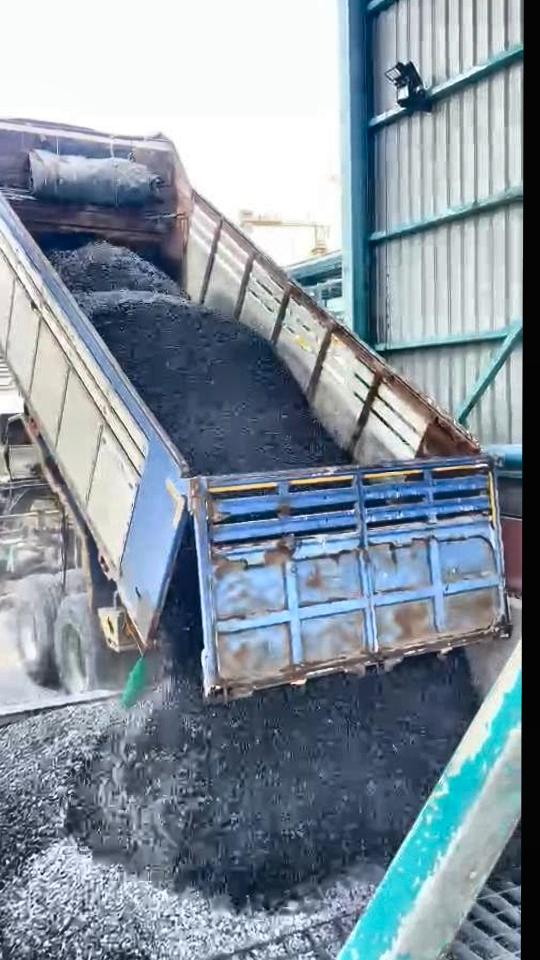gravel: (0, 532, 476, 960), (51, 242, 347, 474), (497, 821, 521, 881)
